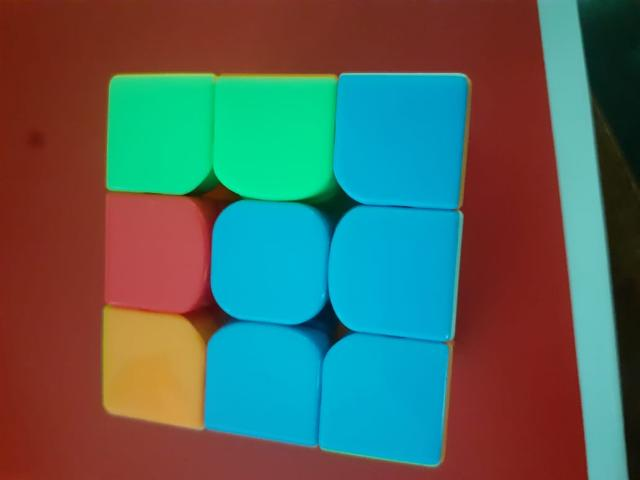Blue: (341, 75, 462, 201), (335, 212, 455, 336), (328, 339, 444, 461), (212, 203, 328, 320), (208, 330, 320, 438)
Green: (218, 80, 326, 194), (106, 76, 208, 191)
Orange: (106, 314, 200, 420)
Red: (107, 198, 207, 310)
